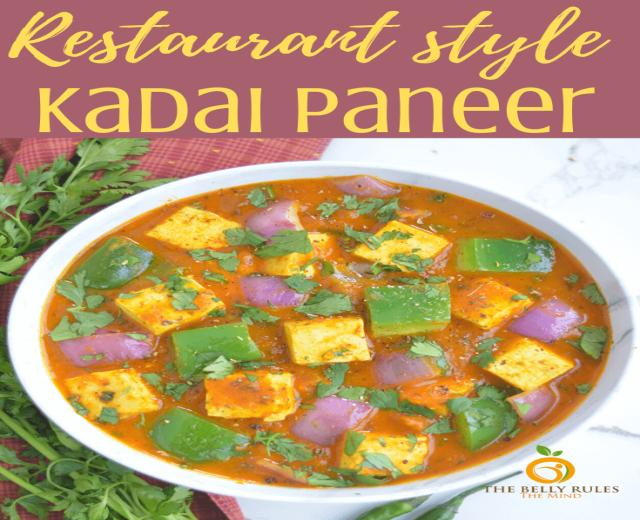kadai paneer: (7, 161, 610, 506), (323, 141, 630, 278), (3, 434, 241, 520), (530, 140, 636, 205), (115, 276, 224, 334), (148, 405, 253, 462), (167, 321, 264, 377), (62, 368, 162, 421), (37, 459, 122, 519), (202, 369, 300, 420), (348, 220, 448, 269), (70, 236, 158, 289), (144, 206, 244, 251), (180, 138, 322, 168), (99, 400, 178, 451), (55, 331, 153, 368), (258, 231, 331, 275), (242, 198, 306, 242), (152, 245, 222, 278), (238, 276, 306, 308), (48, 310, 116, 340), (324, 264, 386, 294), (292, 289, 352, 317), (328, 175, 402, 197), (143, 366, 195, 397), (345, 261, 380, 278), (393, 207, 430, 220)
